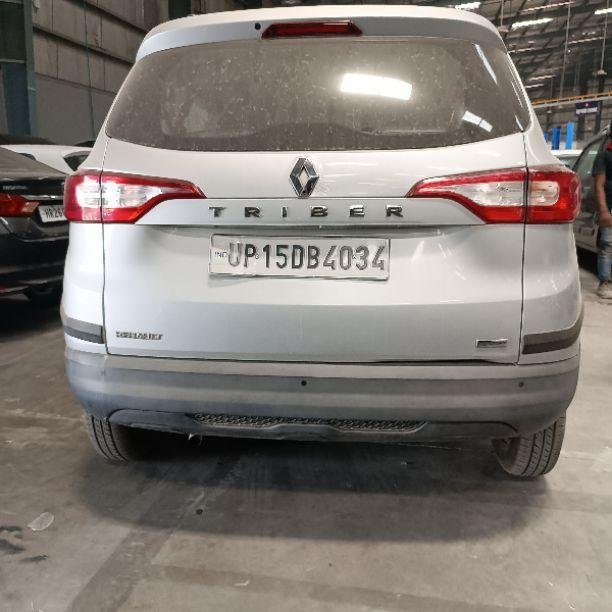license_plate: (207, 233, 390, 280), (37, 203, 66, 223)
